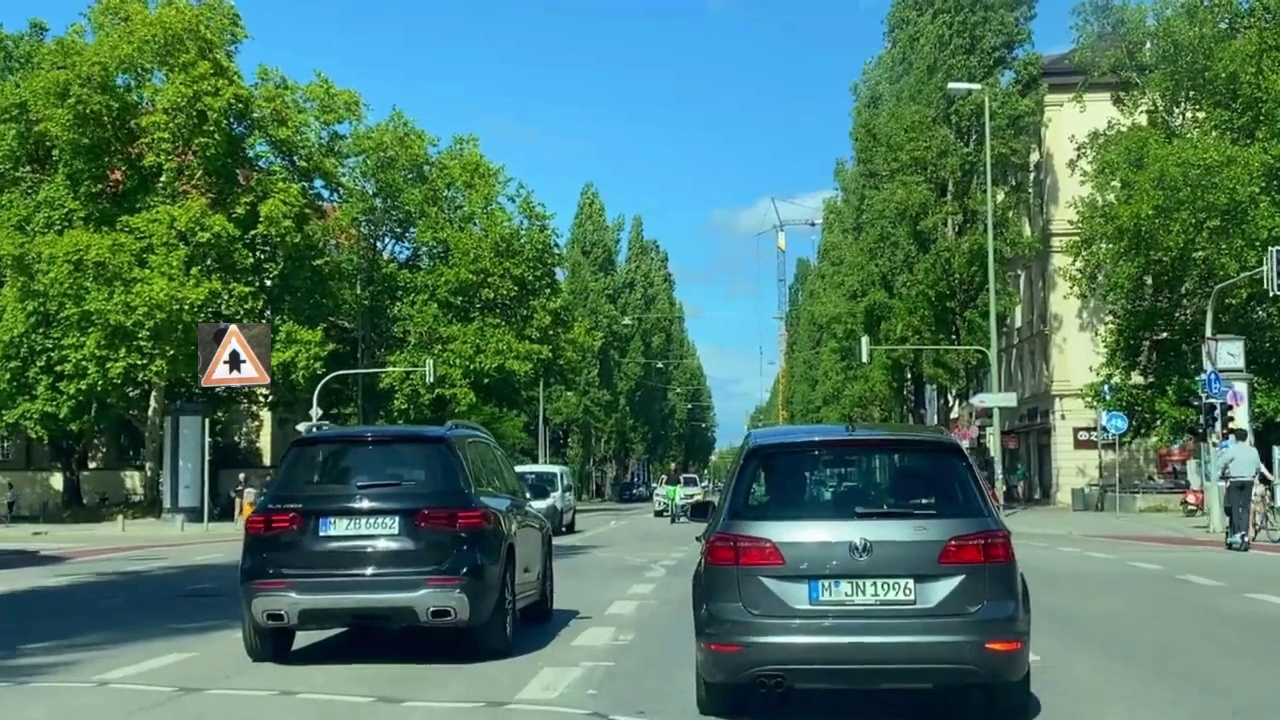Right-of-way: (198, 323, 271, 387)
